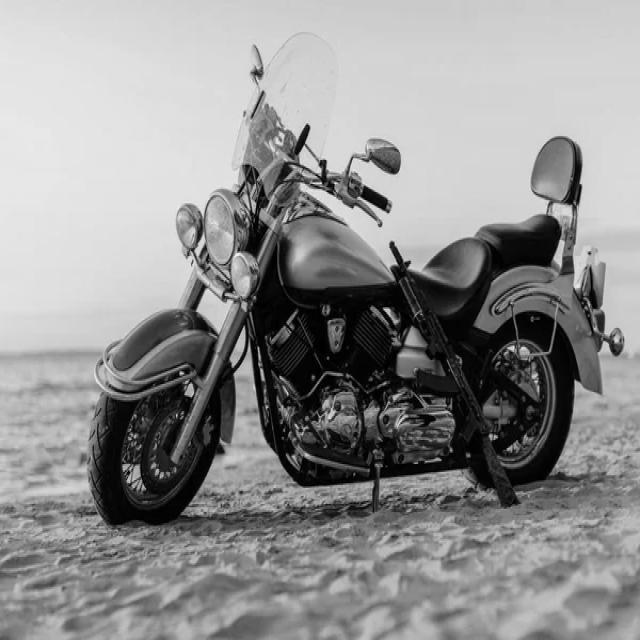Motorcycle: (87, 34, 624, 523)
